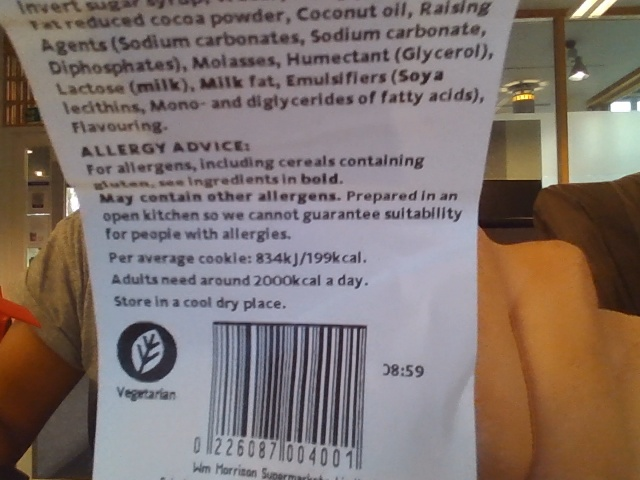milk: (135, 79, 182, 98), (198, 73, 243, 92)
